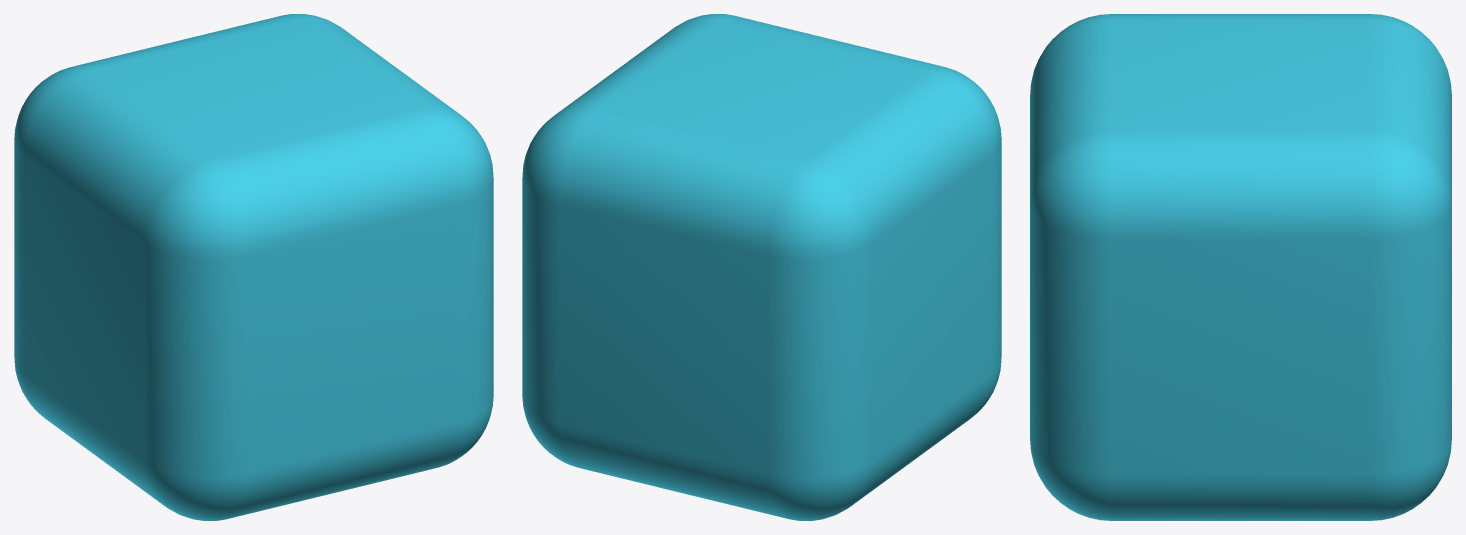
The picture shows the model from 3 angles, left to right: view 1: azimuth 30°, elevation 25°; view 2: azimuth 150°, elevation 25°; view 3: azimuth 270°, elevation 25°; orthographic projection. The views are drawn at different scales.
Visible parts, largest first — view 1: Cube; view 2: Cube; view 3: Cube.
Part boxes in pixels (x1,y1,x2,y2): Cube: (14, 14, 493, 520); Cube: (522, 14, 1001, 520); Cube: (1030, 14, 1451, 520).
Size of the model in its own units: 400 by 400 by 400.
